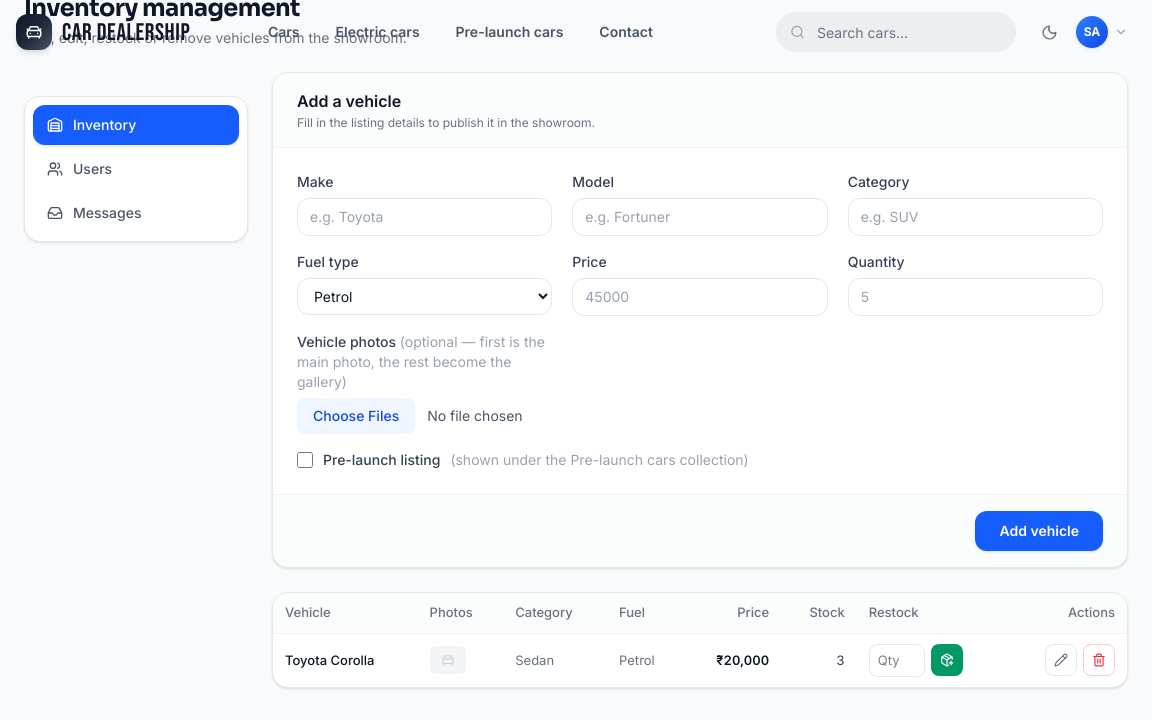
Test case: AdminPage › edits a vehicle via the form and saves the changes
(page scrolled)
Expected: the text "Toyota Corolla" is shown, [285, 652, 374, 668]
Click the button named "edit": (1061, 660) [1045, 644, 1077, 676]
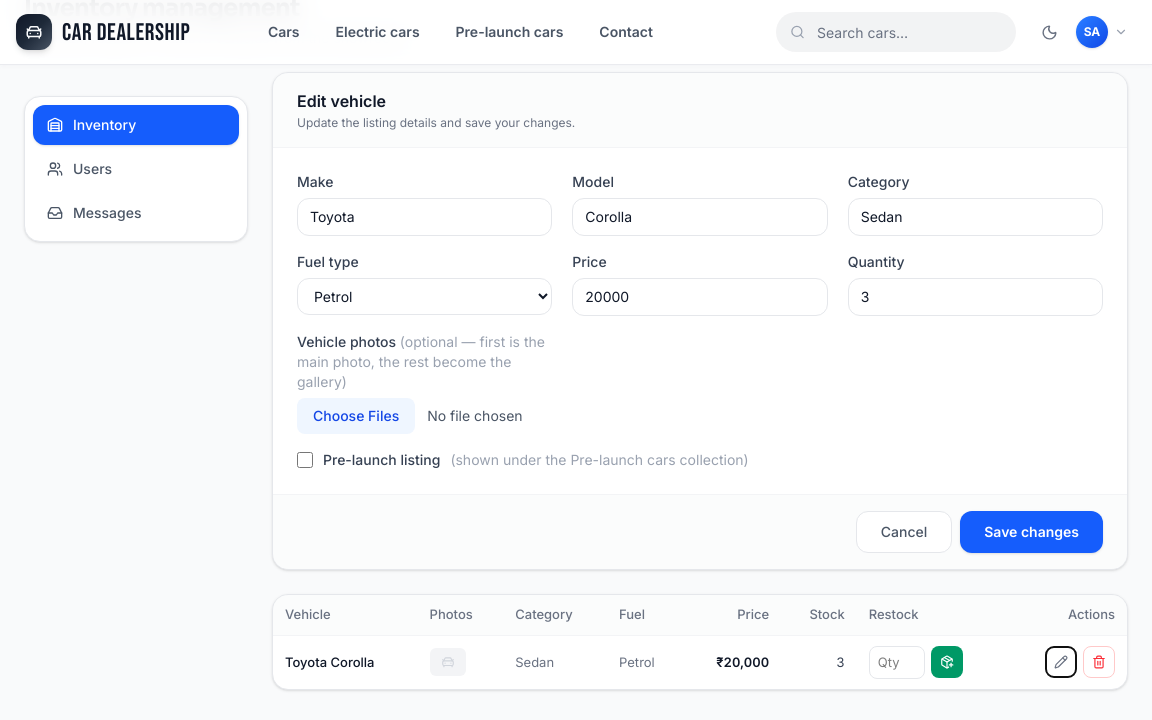
Expected: the field labelled "Make" holds "Toyota", [297, 198, 552, 236]
Replace the text in the number field labelled "Price" with "25000": (700, 297) [572, 278, 828, 316]
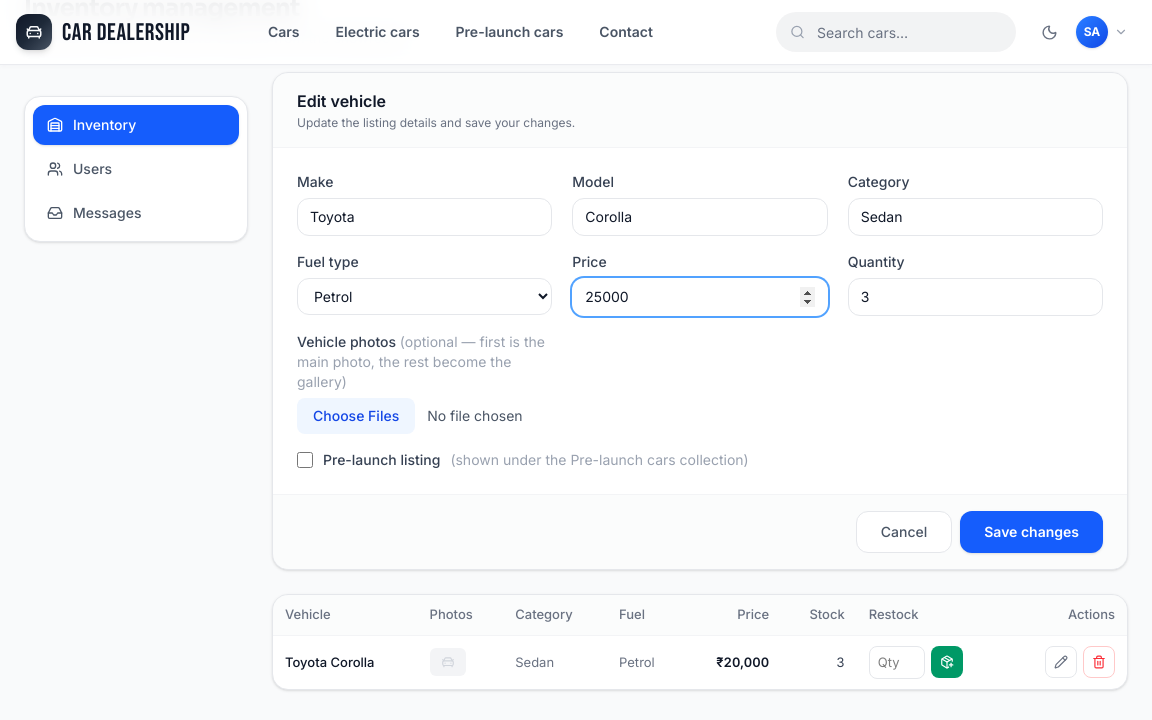
Click the button "Save changes": (1032, 532) [960, 511, 1103, 553]
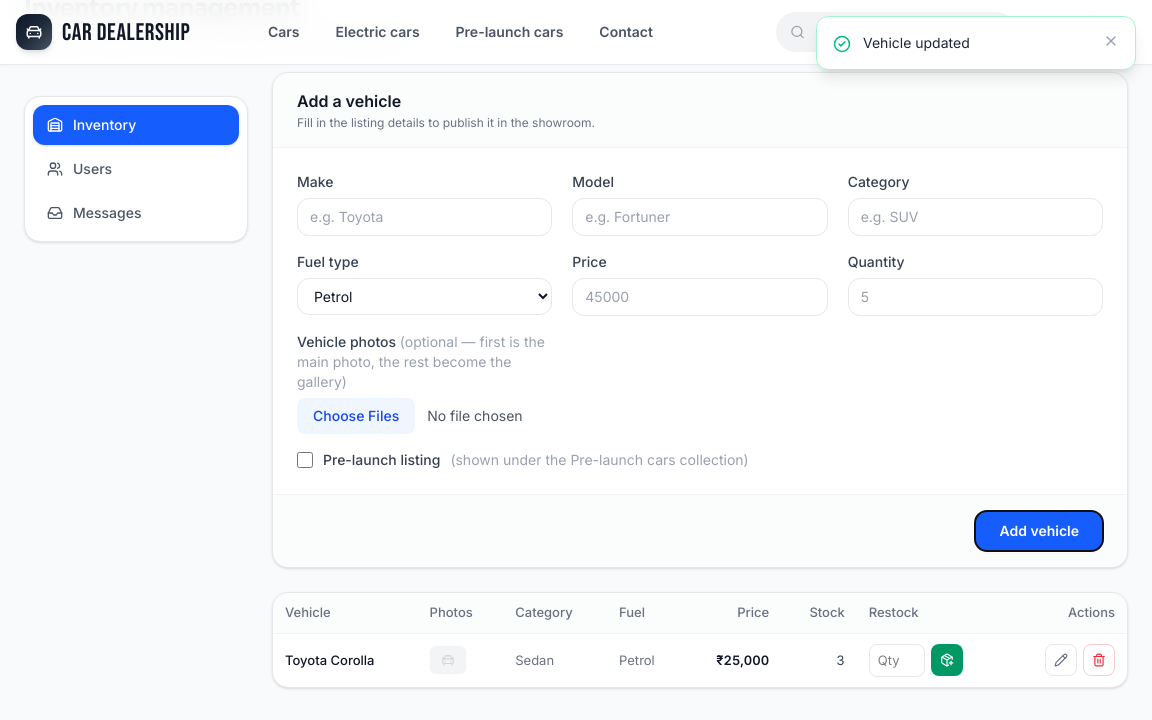
Expected: the text "₹25,000" is shown, [683, 633, 781, 687]
